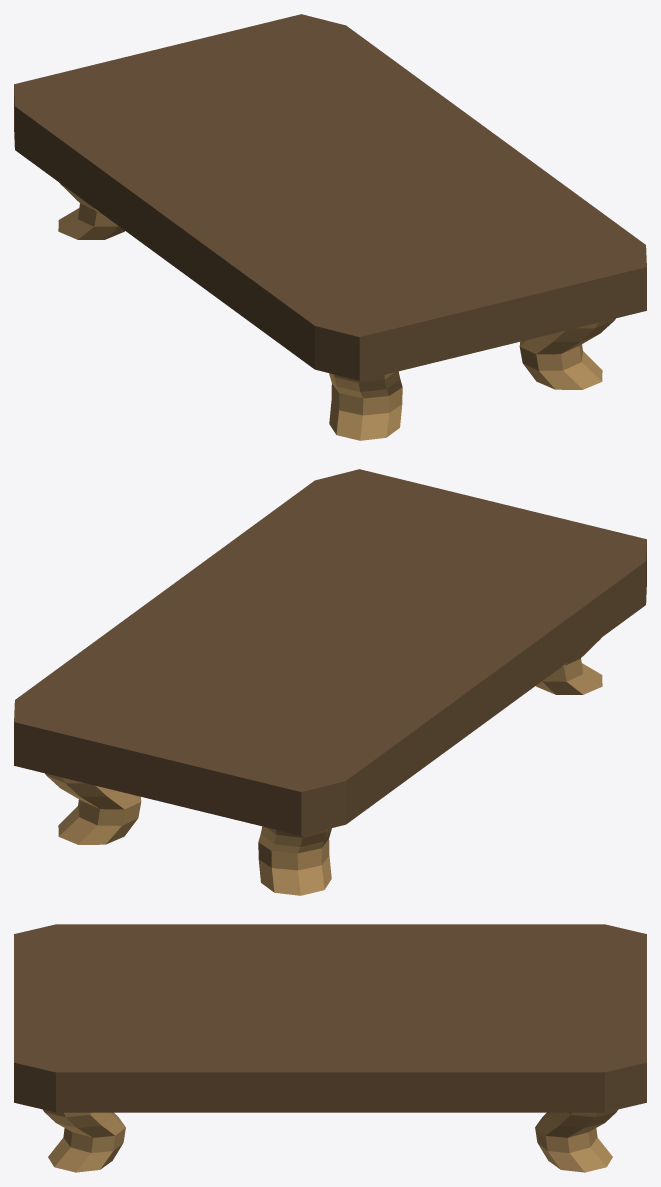
Rendered from CoffeeTable.fbx.
3 renders of one model, top to bottom at view 1: azimuth 30°, elevation 25°; view 2: azimuth 150°, elevation 25°; view 3: azimuth 270°, elevation 25°, orthographic. The views are drawn at different scales.
Visible parts, largest first — view 1: Cube.029, Cylinder.029; view 2: Cube.029, Cylinder.029; view 3: Cube.029, Cylinder.029.
Part boxes in pixels (left/top/right/bottom): Cube.029: left=14, top=14, right=646, bottom=380; Cylinder.029: left=58, top=182, right=615, bottom=440; Cube.029: left=14, top=469, right=646, bottom=835; Cylinder.029: left=45, top=637, right=602, bottom=895; Cube.029: left=14, top=924, right=646, bottom=1112; Cylinder.029: left=42, top=1109, right=618, bottom=1172.
Size of the model in its own units: 100 by 181 by 36.25.
